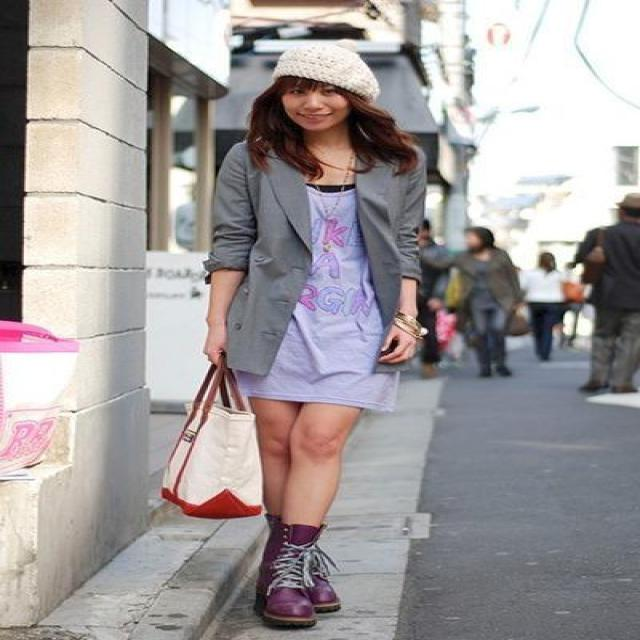bag: (162, 350, 262, 518)
dress: (228, 166, 398, 411)
hat: (255, 41, 378, 98)
jacket: (204, 141, 438, 368)
shoe: (250, 513, 339, 630)
